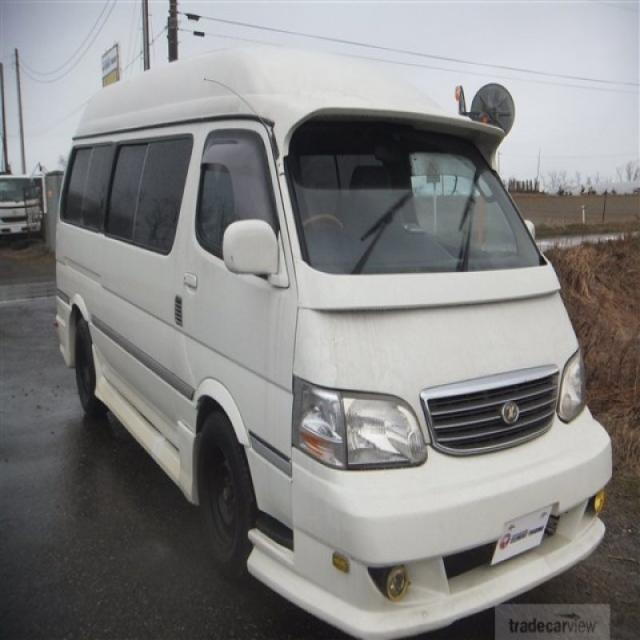Van: (51, 77, 613, 621)
